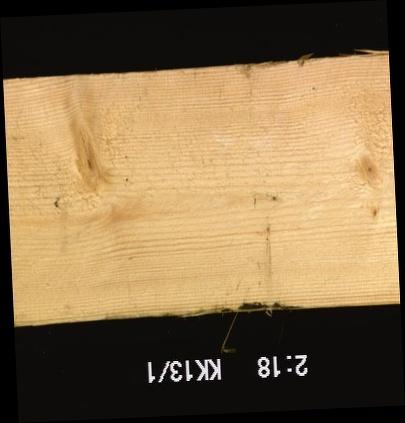small_knot: (362, 203, 386, 225)
sound_knot: (356, 148, 385, 190)
